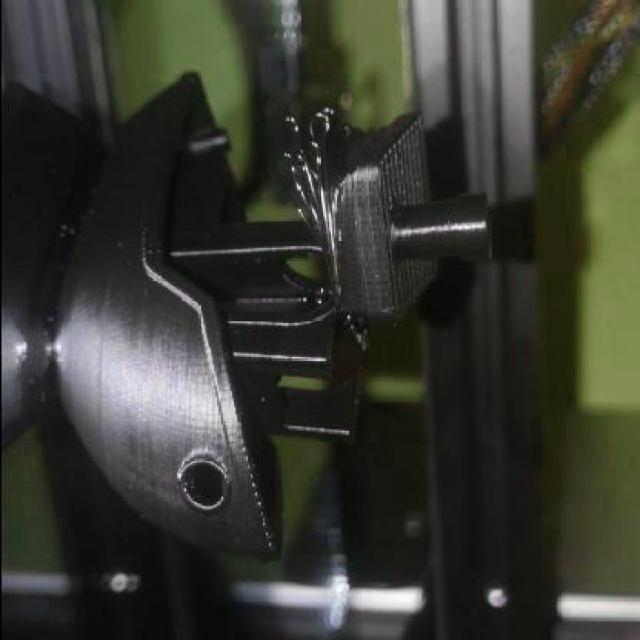Spaghetti: (282, 107, 352, 281), (335, 310, 370, 352)
